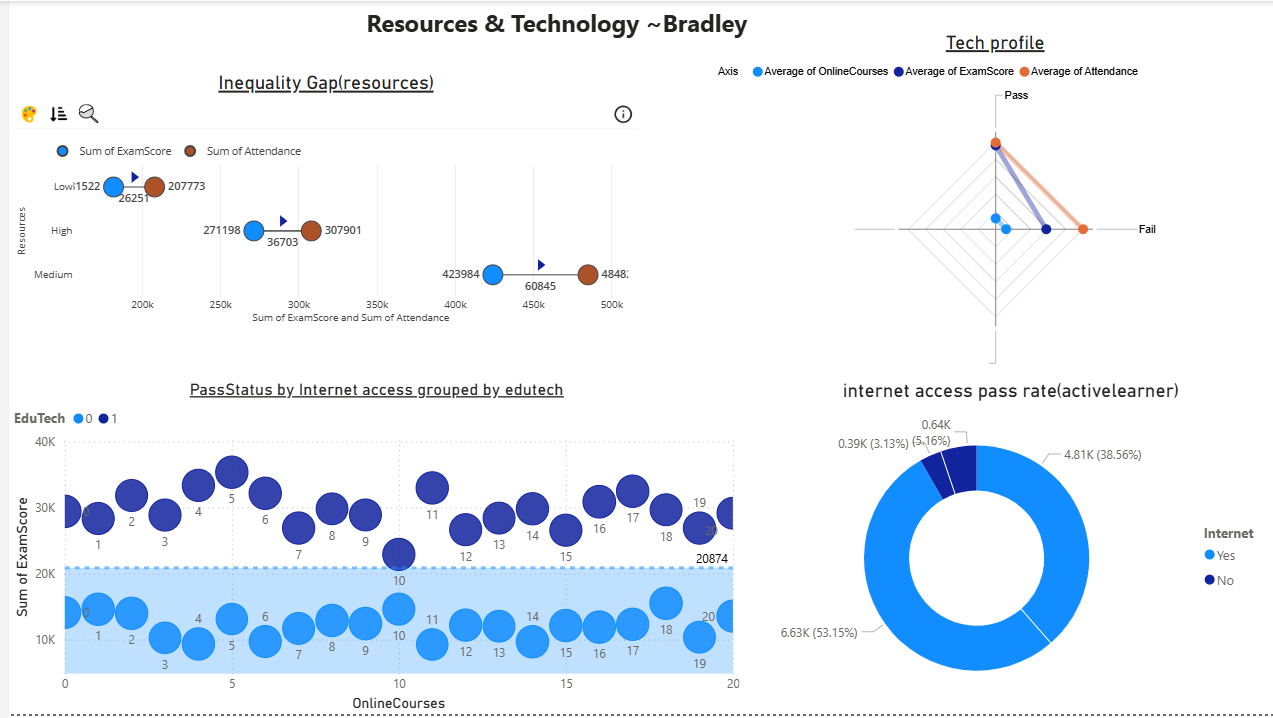

What the dashboard file says about the page in this screenshot:
{"tool":"powerbi","page":{"name":"Resources & Technology Page","canvas":[1280,720],"ordinal":0},"visuals":[{"type":"scatterChart","title":"PassStatus by Internet access","fields":{"X":["final_dataset.OnlineCourses"],"Y":["final_dataset.ExamScore"],"Size":["final_dataset.Age"],"Series":["final_dataset.EduTech"]},"box":[0,339.1,673.7,380.9],"z":0},{"type":"dumbbellbarchart42FB6F346CBCCA437DA2E705B288BA74","title":"Inequality Gap(resources)","fields":{"col_0":["final_dataset.Resources"],"col_1":["final_dataset.ExamScore"],"col_2":["final_dataset.Attendance"]},"box":[0,0,660.2,265.9],"z":1000},{"type":"RadarChart1446119667547","title":"Tech Profile","fields":{"Y":["final_dataset.OnlineCourses","final_dataset.ExamScore","final_dataset.Attendance"],"Category":["final_dataset.PassStatus"]},"box":[673.7,0,606.5,313.7],"z":2000},{"type":"SunburstDD4B4E19938B4CDD9D3EFC2221D4DCF7","title":"Internet Access reality","fields":{"parentcategory":["final_dataset.Internet"],"measure":["final_dataset.ExamScore"],"category":["final_dataset.PassStatus"]},"box":[700.6,339.1,579.6,380.9],"z":3000}]}

Visuals, with their boxes in screenshot pixels (x1, y1, x2, y2), scaled from the page's 1280x720 canvas onto the 1273x718 screenshot:
"PassStatus by Internet access" scatterChart: (left=0, top=338, right=670, bottom=717)
"Inequality Gap(resources)" dumbbellbarchart42FB6F346CBCCA437DA2E705B288BA74: (left=0, top=0, right=657, bottom=265)
"Tech Profile" RadarChart1446119667547: (left=670, top=0, right=1272, bottom=313)
"Internet Access reality" SunburstDD4B4E19938B4CDD9D3EFC2221D4DCF7: (left=697, top=338, right=1272, bottom=717)
